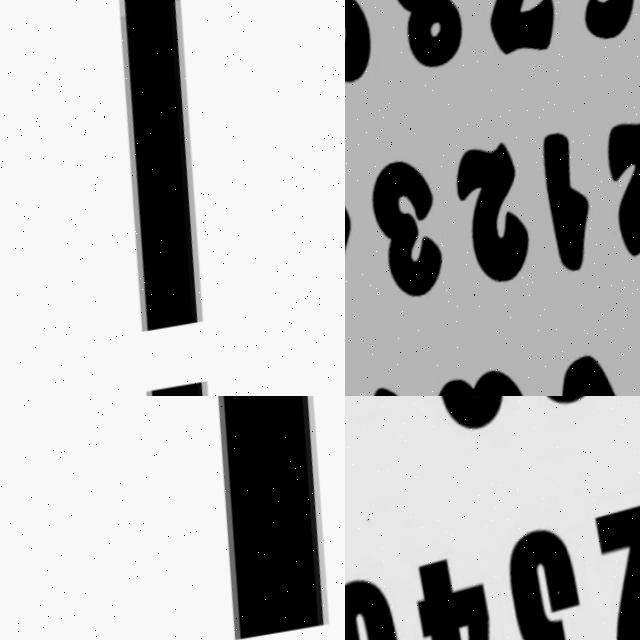0: (388, 396, 545, 472)
1: (527, 122, 623, 292)
2: (438, 134, 558, 299), (579, 493, 640, 640)
3: (353, 145, 473, 317), (492, 516, 636, 640)
4: (396, 529, 549, 640), (345, 144, 396, 354)
5: (345, 561, 464, 640)
6: (542, 0, 640, 68)
7: (456, 0, 584, 84)
8: (366, 0, 496, 97)
9: (345, 0, 401, 109)
J: (65, 0, 332, 396)
L: (156, 396, 345, 640)
